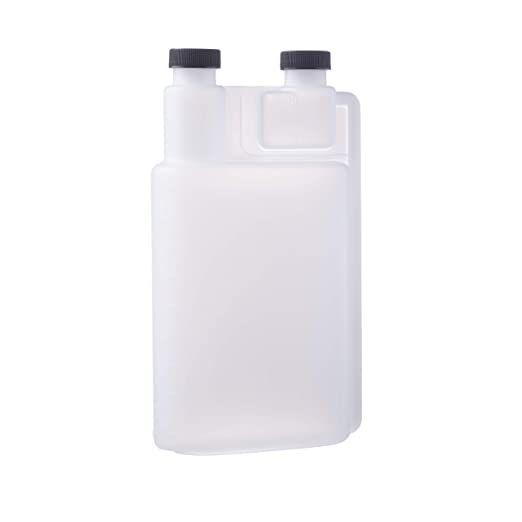HDPE: (152, 93, 356, 450), (169, 47, 220, 68), (279, 51, 331, 68)
